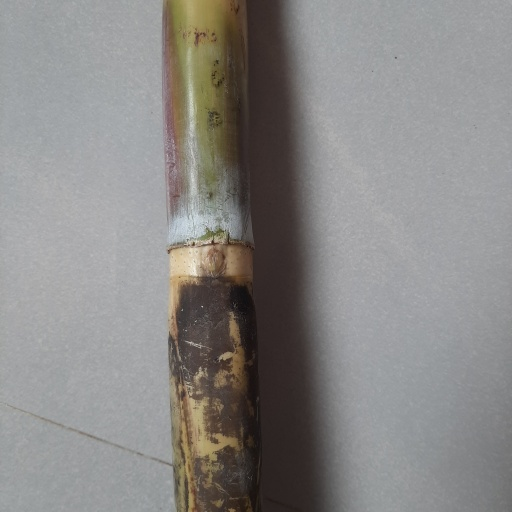Bud: (204, 244, 226, 277)
